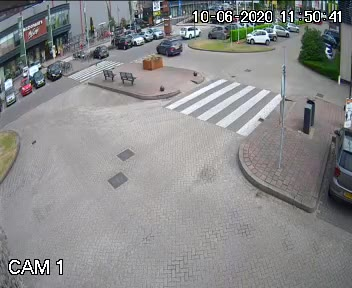car: (152, 37, 188, 58), (176, 24, 200, 41)
